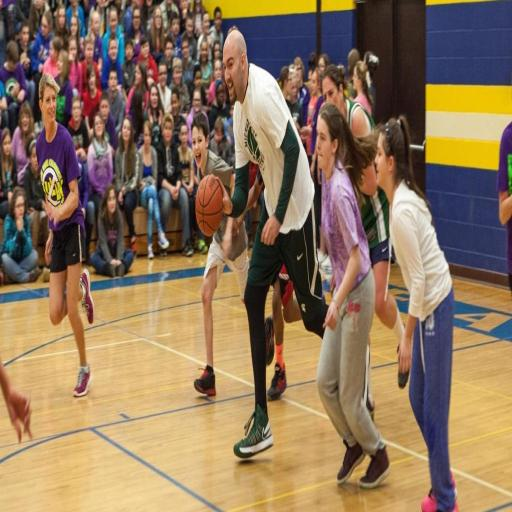person: (218, 30, 327, 457), (375, 117, 457, 511), (317, 104, 390, 488), (37, 75, 94, 396), (194, 215, 249, 395), (361, 166, 403, 343), (157, 114, 193, 256), (139, 121, 169, 259), (0, 188, 40, 283), (92, 185, 133, 277), (178, 124, 205, 252), (115, 116, 140, 252), (85, 113, 113, 224), (24, 136, 48, 248), (0, 41, 28, 132), (0, 360, 31, 442), (498, 123, 511, 290), (12, 102, 34, 185), (31, 10, 52, 90), (0, 128, 15, 218), (83, 67, 101, 138), (187, 87, 208, 146), (144, 83, 163, 148), (56, 50, 72, 126), (126, 63, 148, 118), (103, 9, 124, 64), (82, 35, 100, 99), (210, 117, 234, 165), (100, 91, 117, 157), (101, 37, 122, 90), (209, 79, 230, 131), (352, 61, 372, 115), (108, 70, 125, 133), (172, 58, 190, 115), (364, 51, 379, 116), (138, 35, 157, 85), (171, 86, 186, 146), (122, 40, 136, 101), (42, 35, 62, 77), (150, 6, 165, 62), (68, 38, 82, 96), (198, 40, 213, 90), (157, 60, 171, 112), (209, 7, 223, 51), (348, 49, 360, 100)
